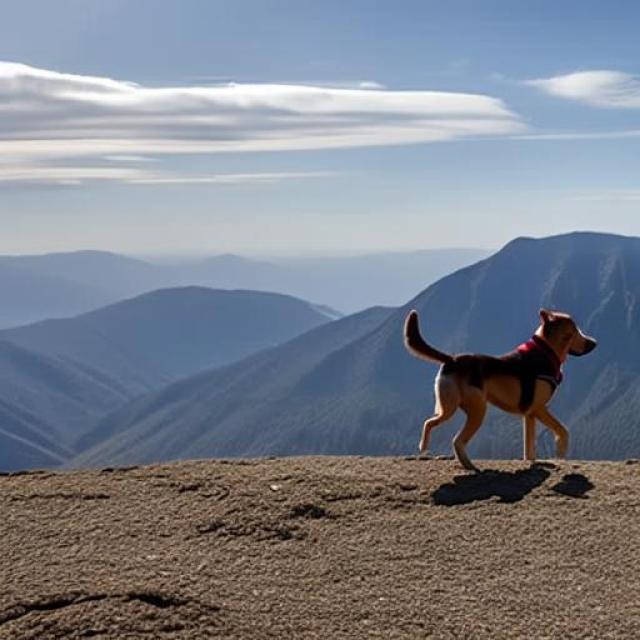Dog: (404, 308, 599, 468)
